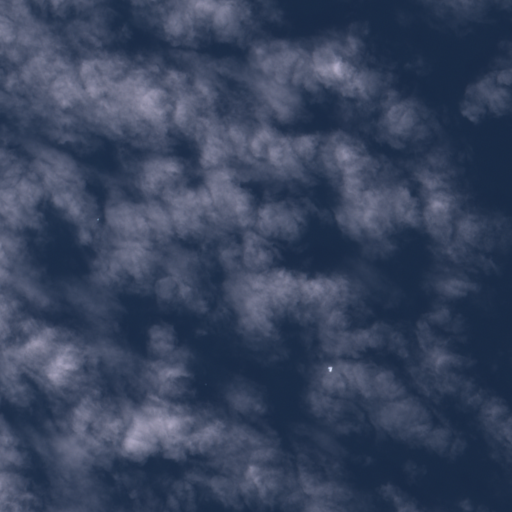Iceberg: (328, 367, 332, 371), (97, 218, 98, 220)
